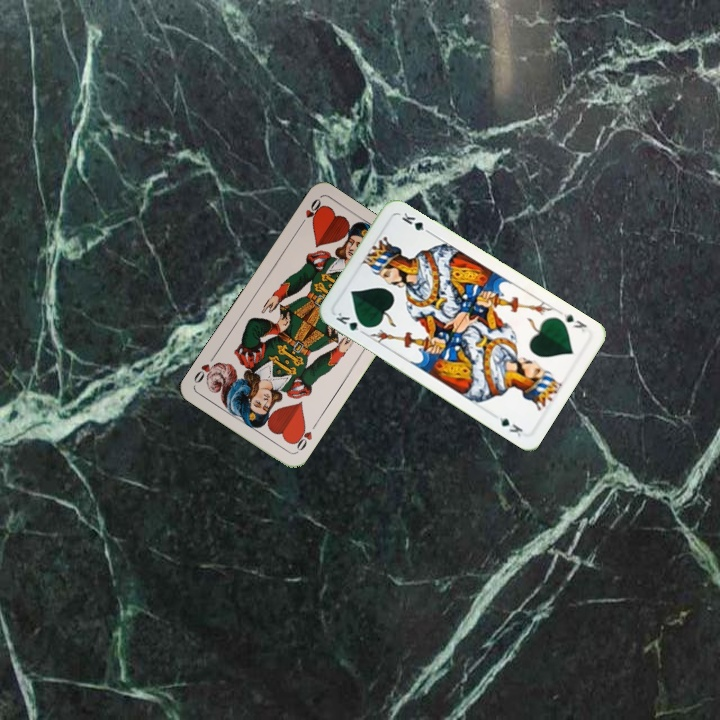GK: (332, 308, 370, 337), (559, 309, 589, 335)
HO: (289, 418, 320, 455), (295, 194, 325, 230)
